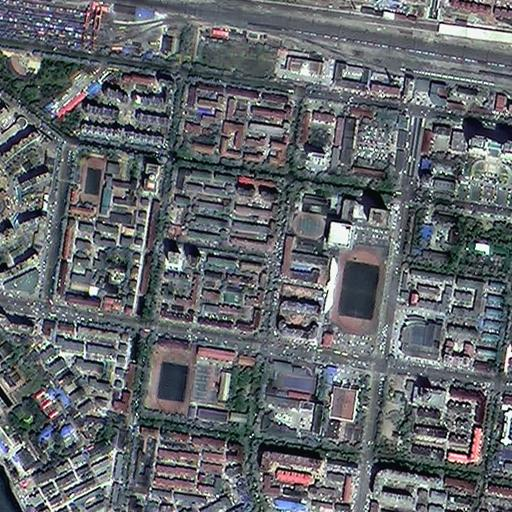school: (274, 210, 389, 333), (139, 336, 258, 430), (70, 152, 137, 225)
